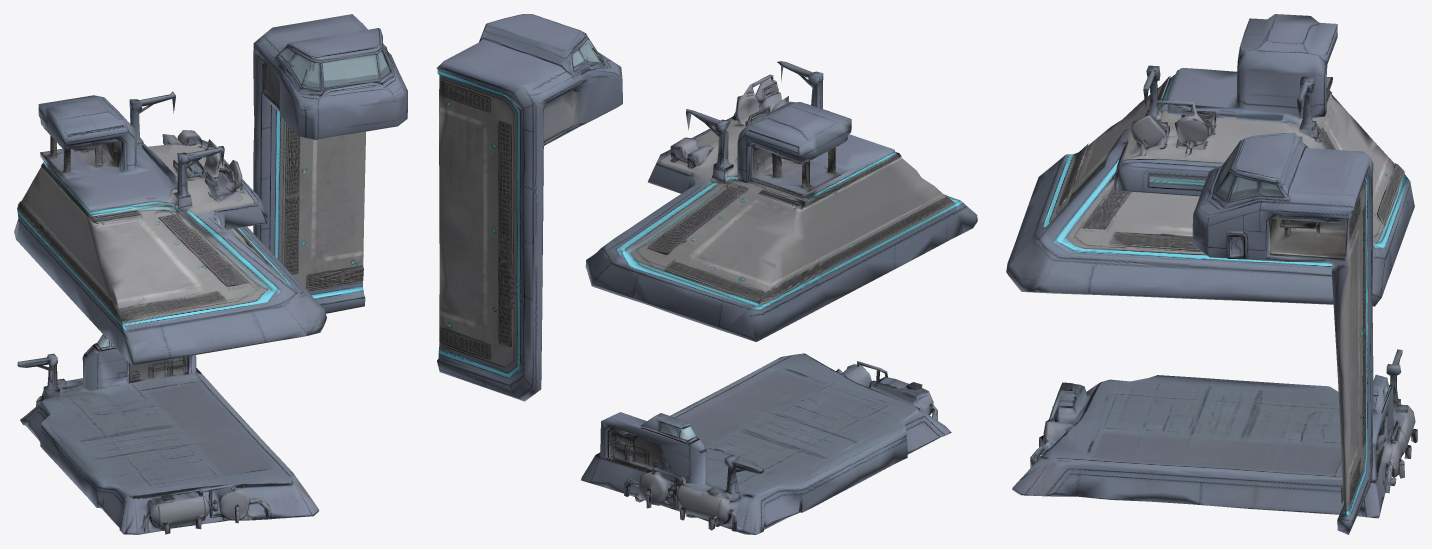
File: Airfield.glb
3 views of the same model, side by side, from view 1: azimuth 30°, elevation 25°; view 2: azimuth 150°, elevation 25°; view 3: azimuth 270°, elevation 25° (orthographic). The views are drawn at different scales.
Parts seen in each view (by area): view 1: tripo_node_e2fd7a2f-2668-4a04-b396-23c33c249d48; view 2: tripo_node_e2fd7a2f-2668-4a04-b396-23c33c249d48; view 3: tripo_node_e2fd7a2f-2668-4a04-b396-23c33c249d48.
Part boxes in pixels (bbox=[...]): tripo_node_e2fd7a2f-2668-4a04-b396-23c33c249d48: bbox=[14, 14, 407, 534]; tripo_node_e2fd7a2f-2668-4a04-b396-23c33c249d48: bbox=[436, 14, 977, 534]; tripo_node_e2fd7a2f-2668-4a04-b396-23c33c249d48: bbox=[1006, 14, 1417, 534].
Size of the model in its own units: 1.06 by 1 by 0.9035.
Materials: 1 (1 with a texture image).
